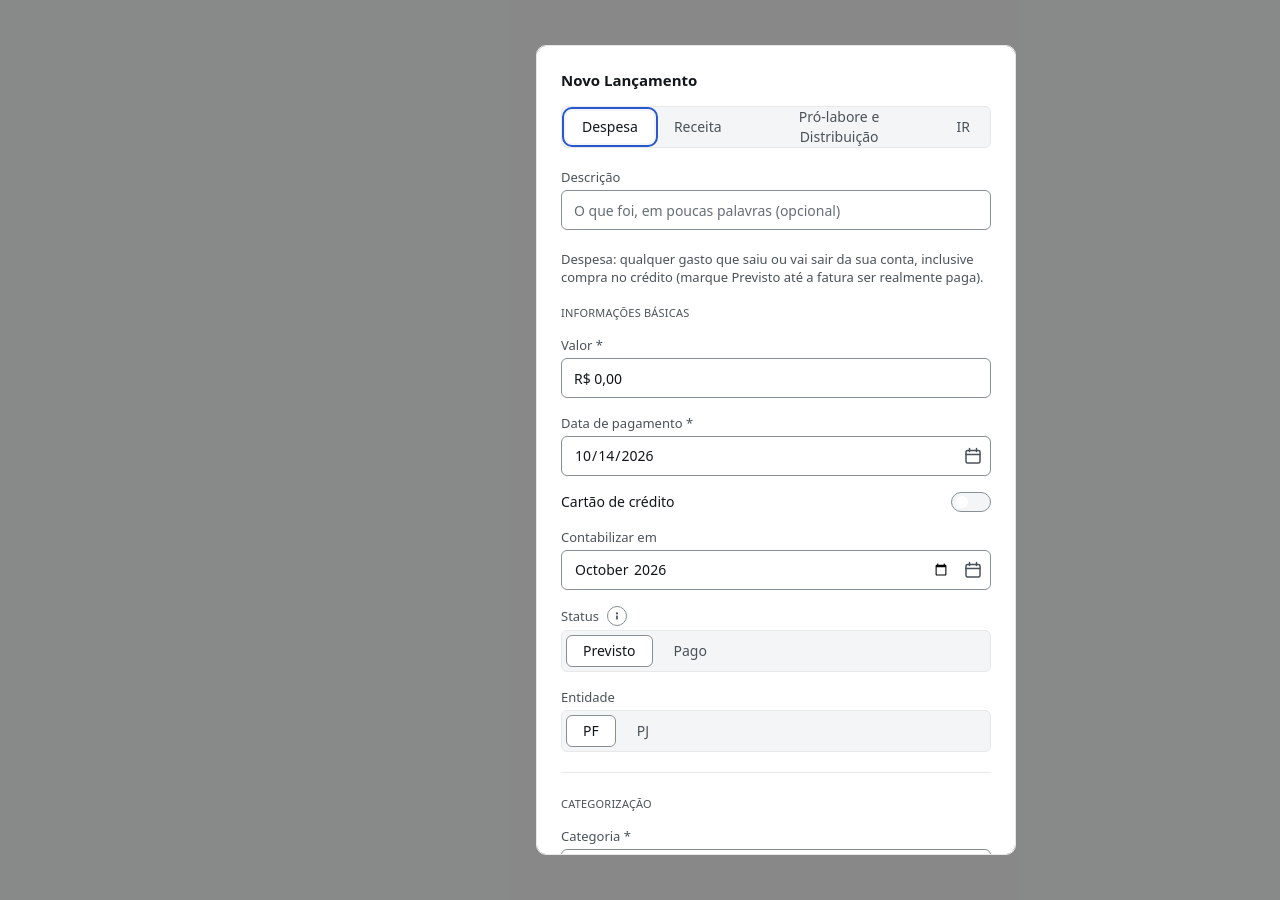
Test: Novo Lançamento, aba Pró-labore — Conta de origem (PJ) opcional (ADR-0018) › a origem tem o (i) explicando quando deixar em branco
Click the tab "Pró-labore e Distribuição".
click(839, 127)  # box x1=742 y1=111 x2=936 y2=143
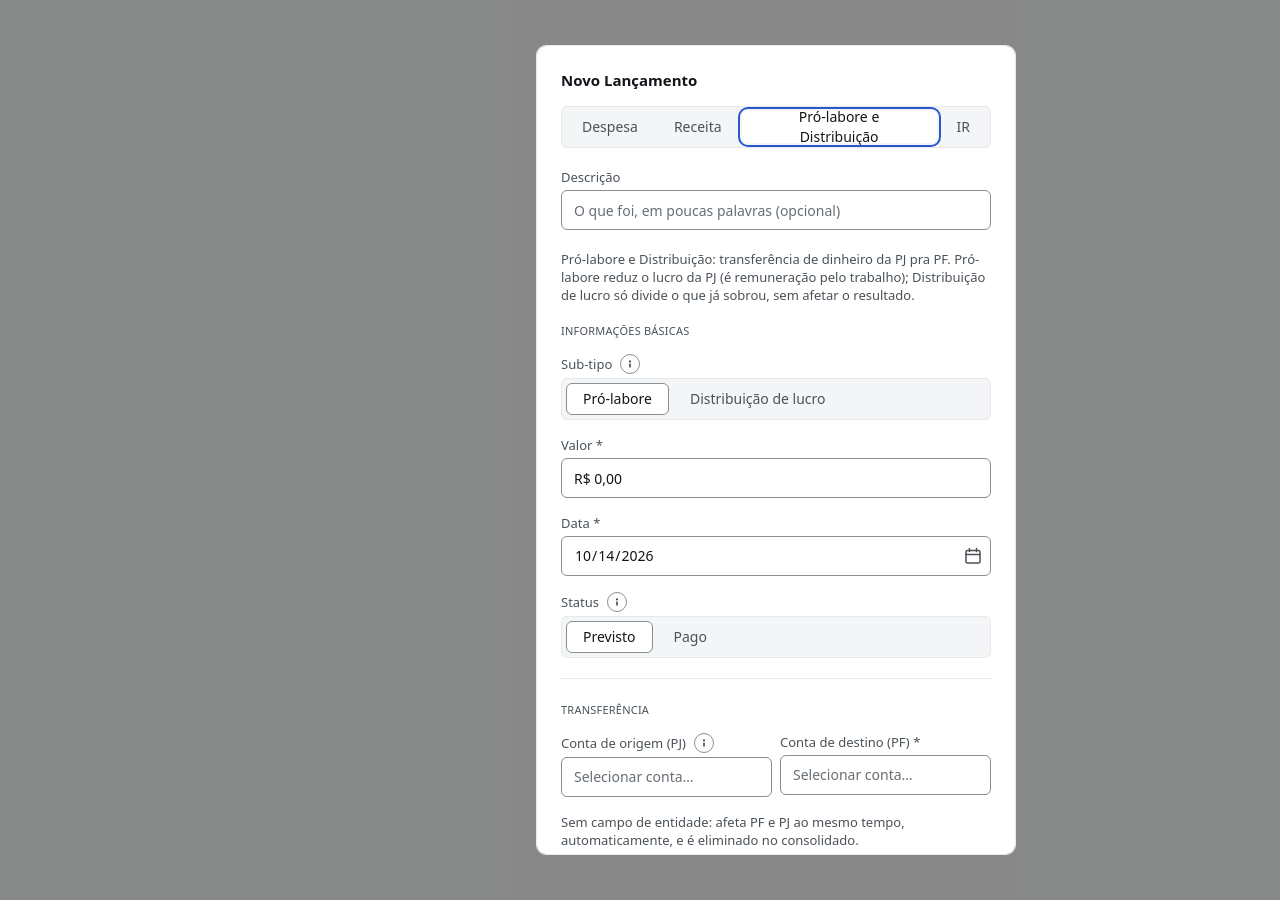
expect the button named "Ajuda sobre Conta de origem" is shown: met, box x1=694 y1=733 x2=714 y2=753
